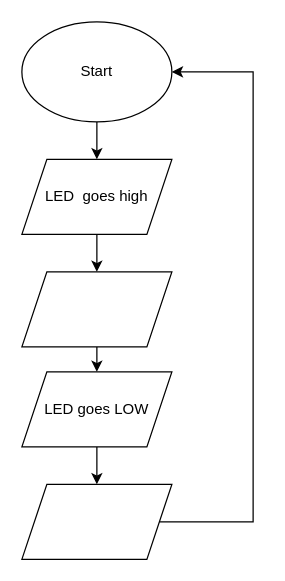
Image size: 285x581. Some labels were removed from this diagram. The box of each missing label's shape, as (x1, y1, x2, y2) in pixels:
delay 250ms: (21, 271, 172, 347)
loop for all 5 LED: (21, 483, 172, 559)
